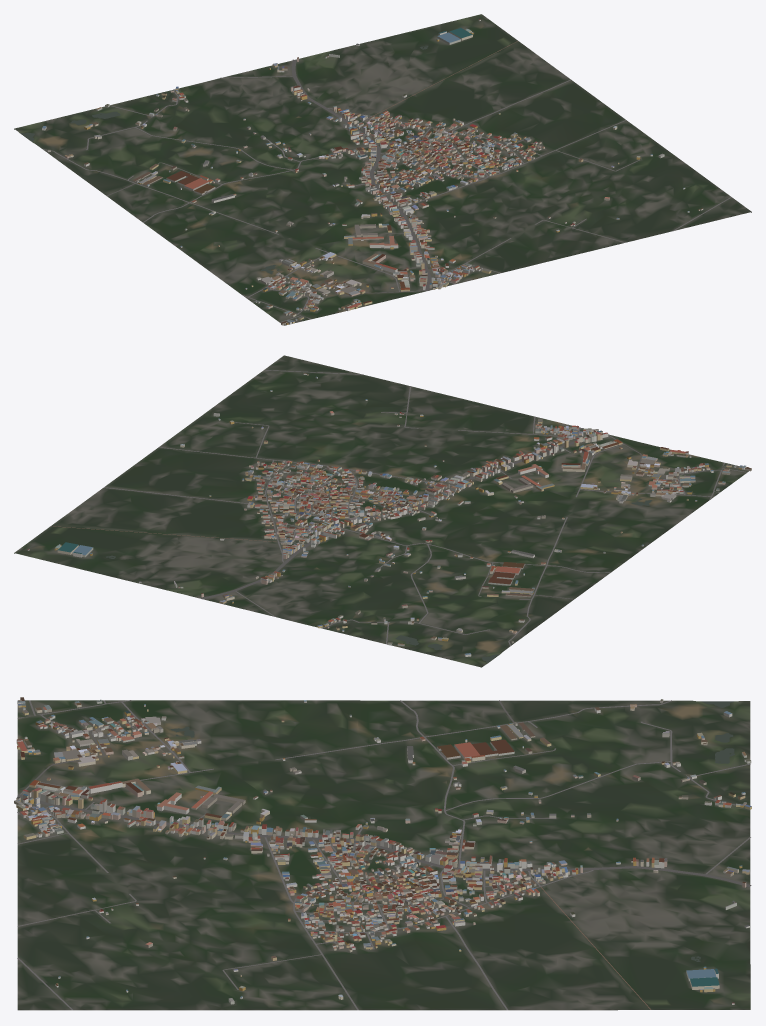
The picture shows the model from 3 angles, top to bottom: view 1: azimuth 30°, elevation 25°; view 2: azimuth 150°, elevation 25°; view 3: azimuth 270°, elevation 25°; orthographic projection. The views are drawn at different scales.
Visible parts, largest first — view 1: ground, buildings, roads; view 2: ground, buildings, roads; view 3: ground, buildings, roads, water.
Boxes of the visible parts, x1,y1,x2,y2 form: ground: [14, 14, 751, 325]; buildings: [42, 19, 703, 325]; roads: [43, 41, 731, 322]; ground: [14, 355, 748, 667]; buildings: [27, 373, 751, 656]; roads: [51, 370, 747, 645]; ground: [17, 700, 750, 1010]; buildings: [14, 697, 751, 1004]; roads: [17, 700, 751, 1010]; water: [170, 701, 734, 961].
Size of the model in its own units: 1405 by 26.22 by 1412.
